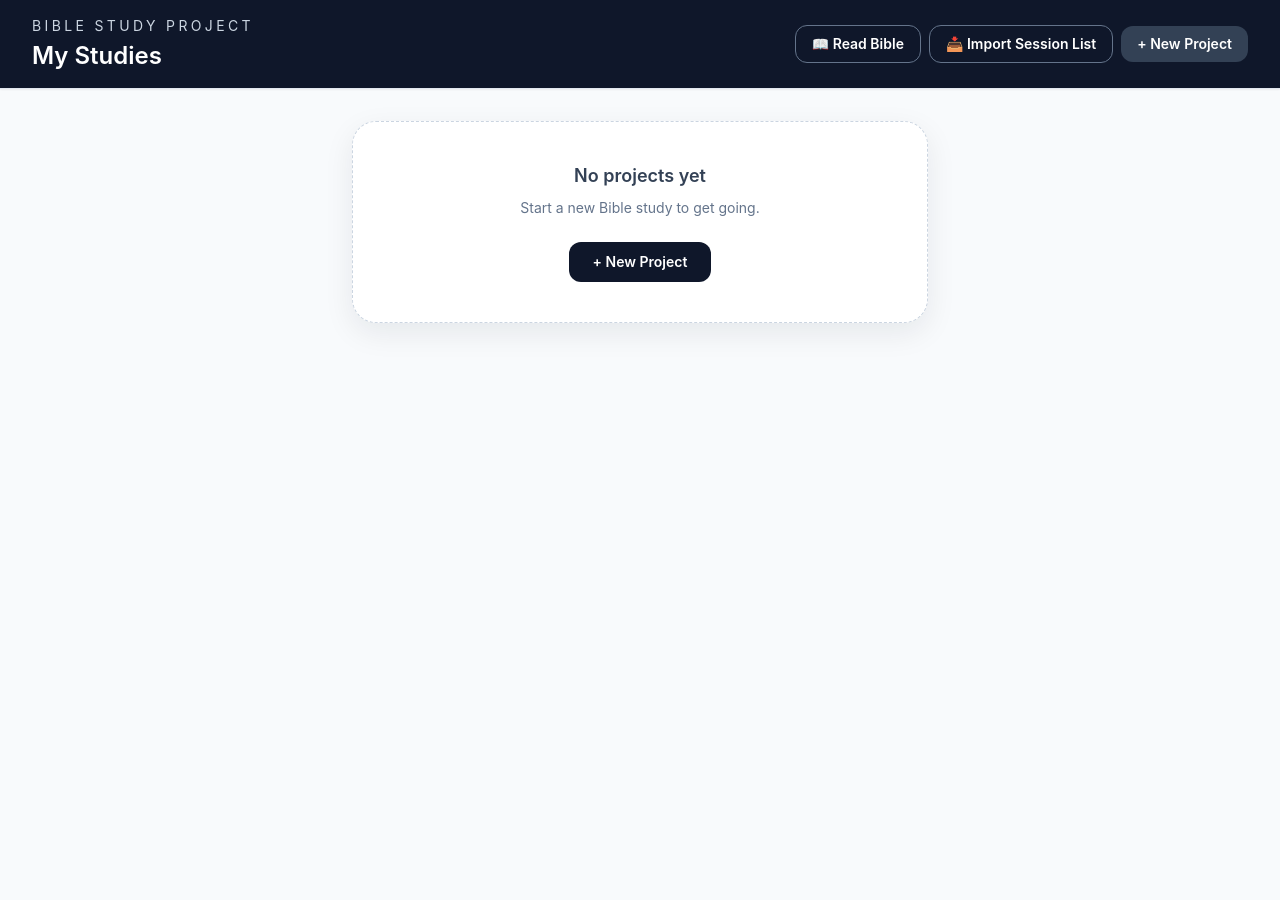
Chunk management › creates a chunk by clicking a verse range
Step 1. Click the button "+ New Project" in the row of "Bible Study Project" → (1185, 44), box [1121,26,1248,62]
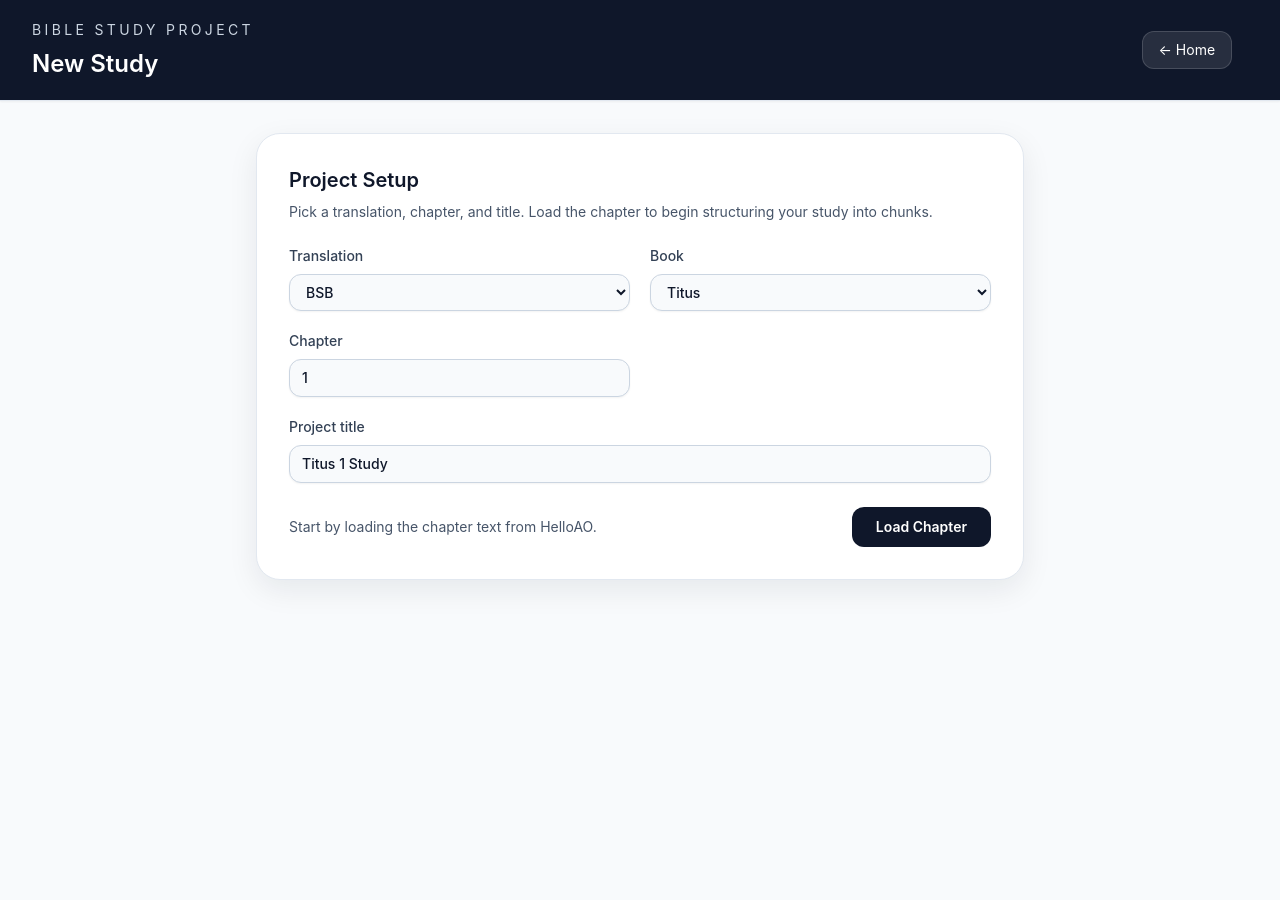
Step 2. Click the button "Load Chapter" → (921, 527), box [852,507,991,547]
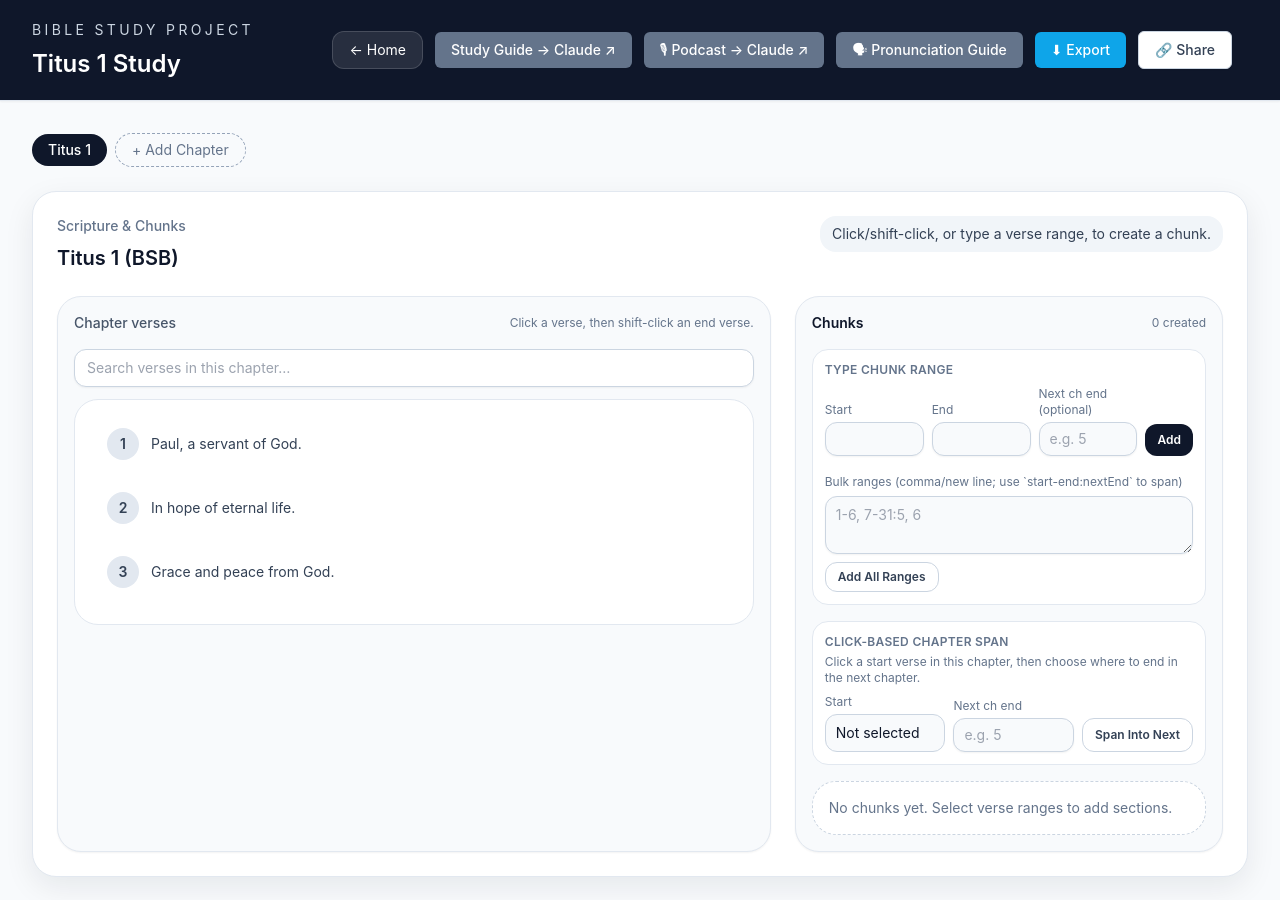
Expected: the text "Scripture & Chunks" is shown, [57,216,186,236]
Step 3. Click the button "1 Paul, a servant of God." → (123, 444), box [91,416,737,472]
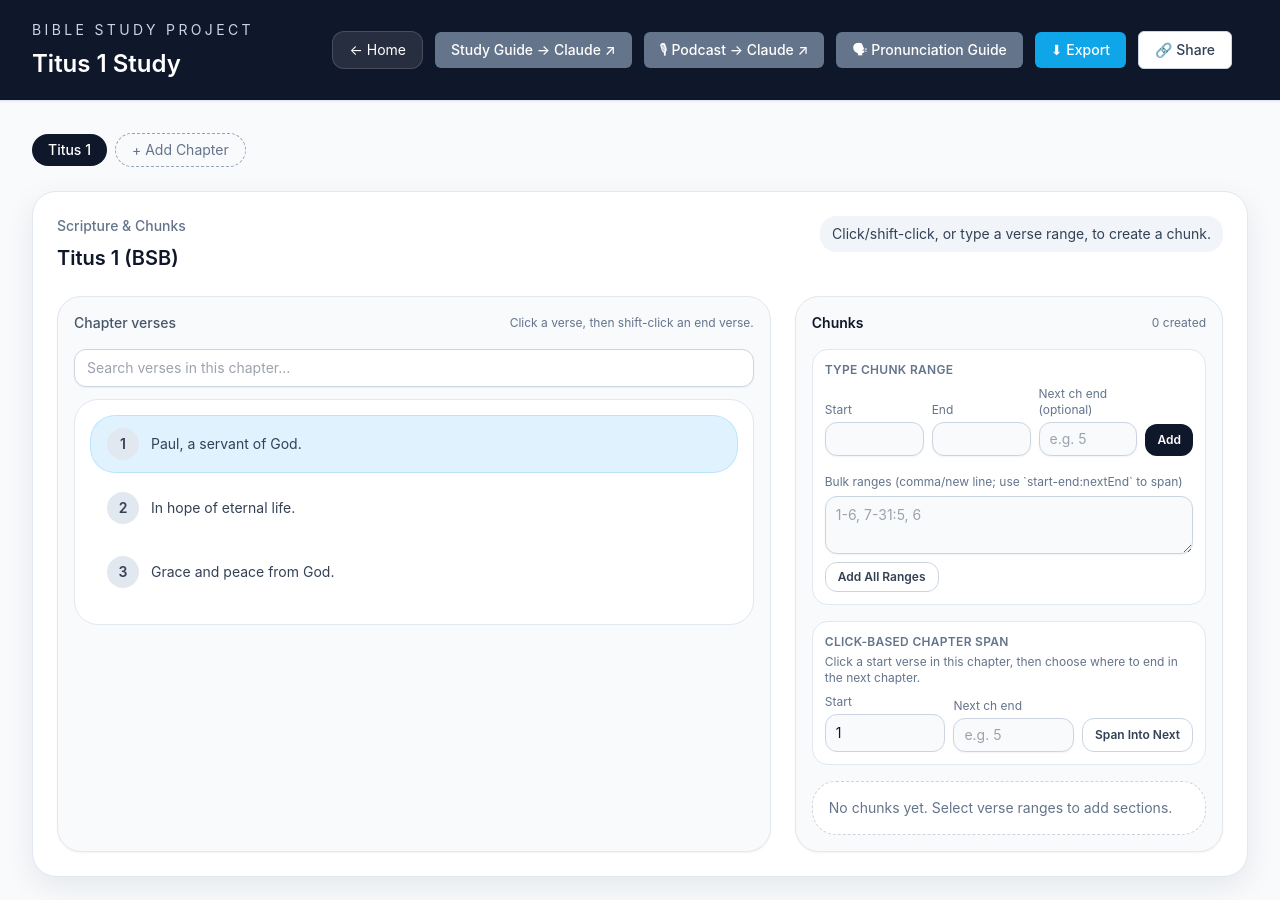
Step 4. Click the button "3 Grace and peace from God." → (123, 572), box [91,544,737,600]
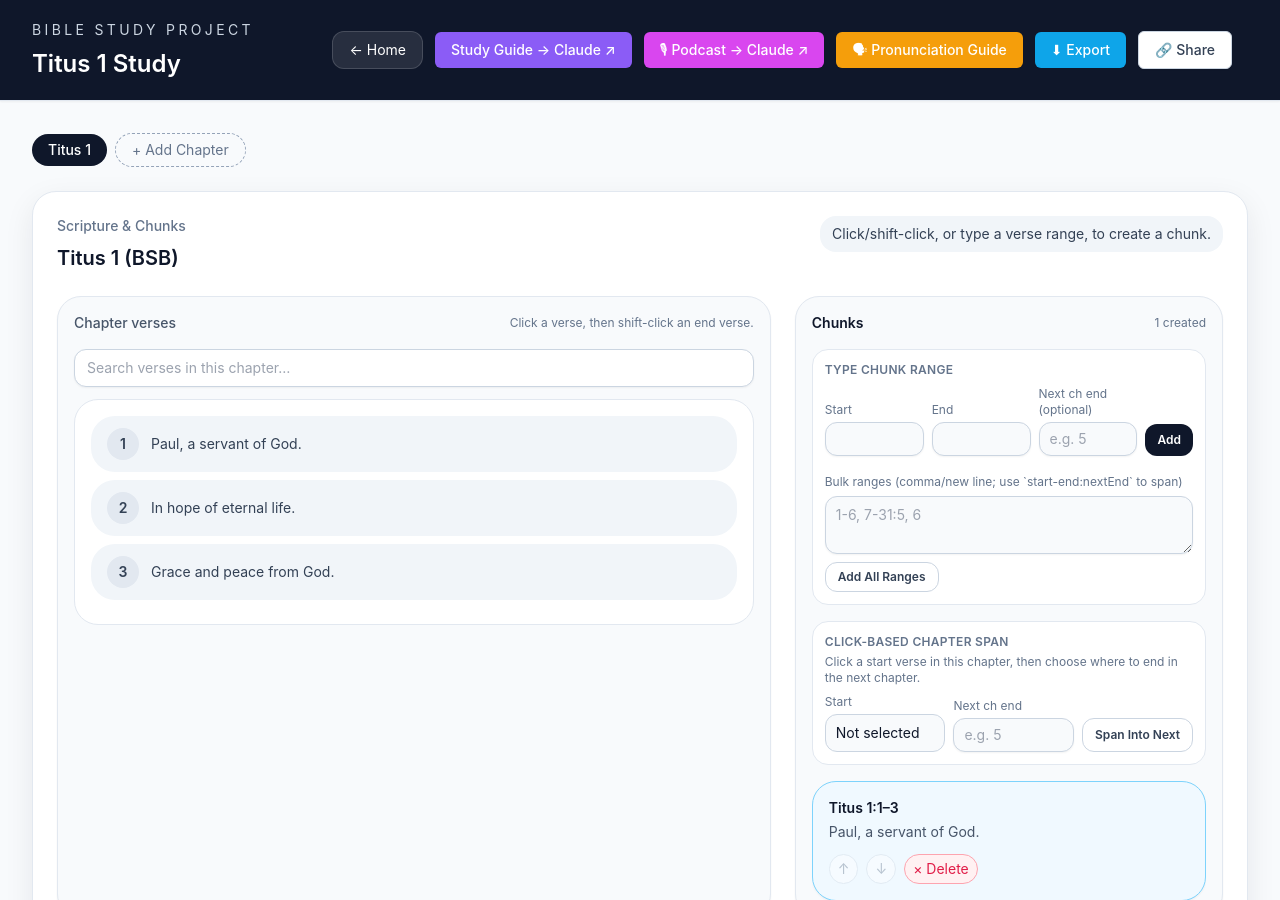
Expected: the text "Titus 1:1–3" is shown, [829,799,899,816]
